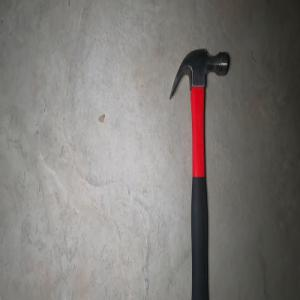Hammer: (168, 46, 230, 300)
